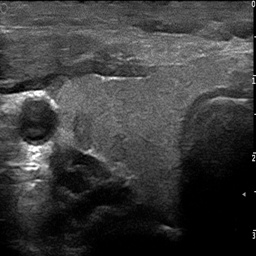mass: (19, 96, 59, 144)
